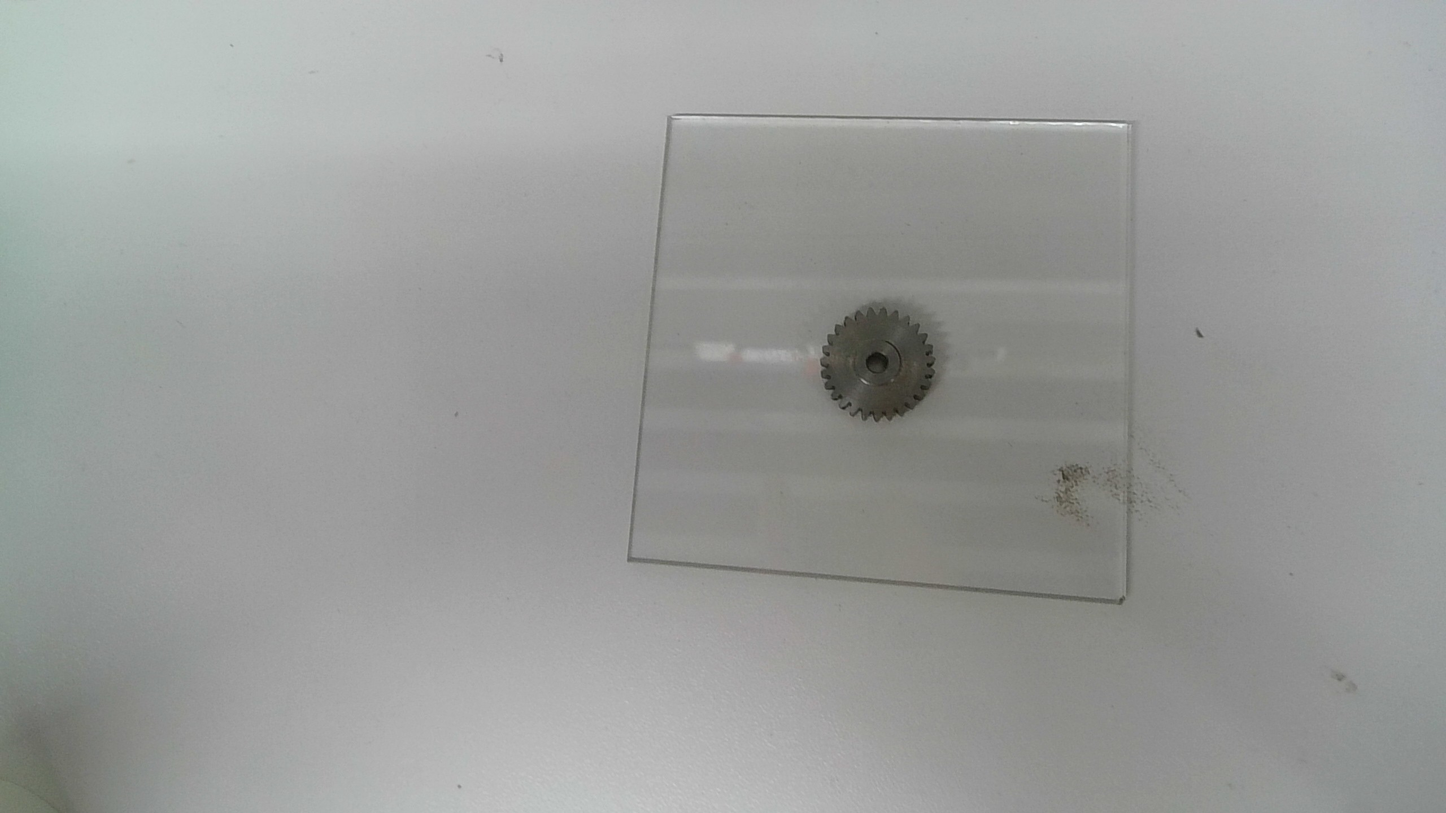gear: (816, 302, 939, 426)
